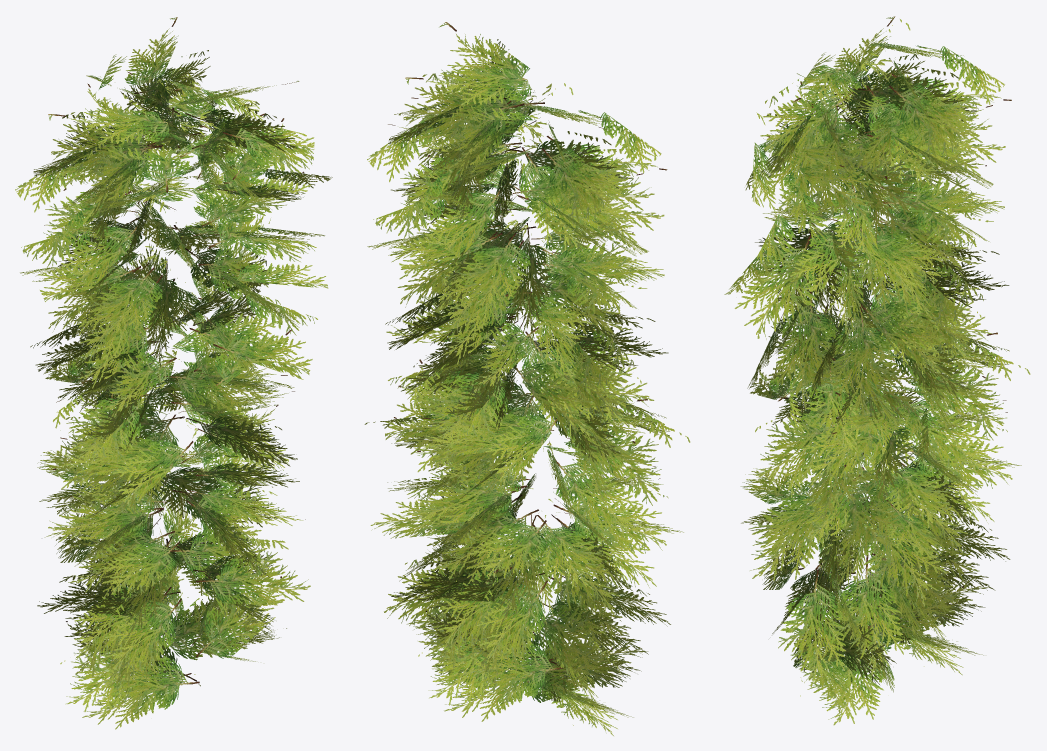
File: overgrown.fbx
The picture shows the model from 3 angles, left to right: view 1: azimuth 30°, elevation 25°; view 2: azimuth 150°, elevation 25°; view 3: azimuth 270°, elevation 25°; orthographic projection. The views are drawn at different scales.
Parts seen in each view (by area): view 1: Group1; view 2: Group1; view 3: Group1.
Boxes of the visible parts, bbox=[...] form: Group1: bbox=[15, 17, 332, 729]; Group1: bbox=[364, 22, 690, 735]; Group1: bbox=[724, 16, 1030, 725].
Size of the model in its own units: 401 by 987 by 410.
